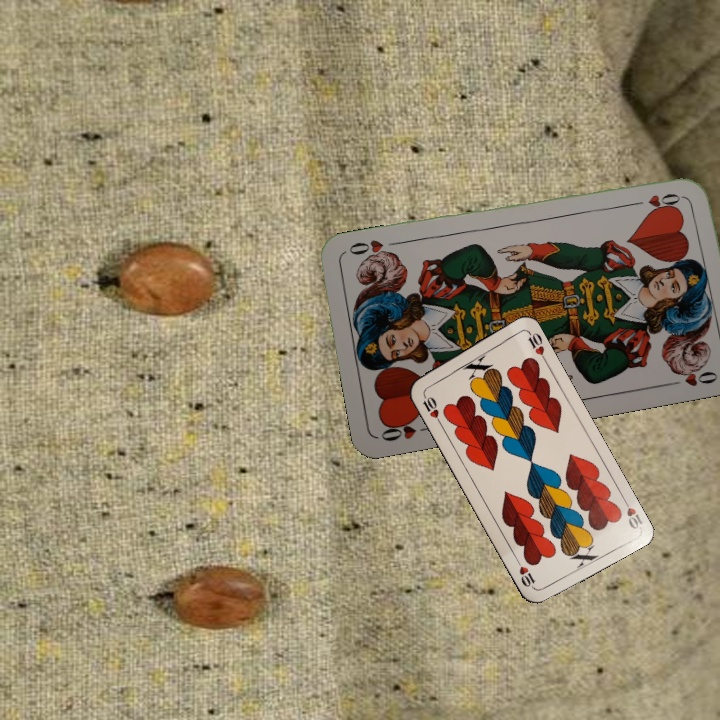H10: (618, 493, 645, 532), (419, 389, 443, 426)
HO: (377, 415, 435, 444), (628, 189, 687, 210)
